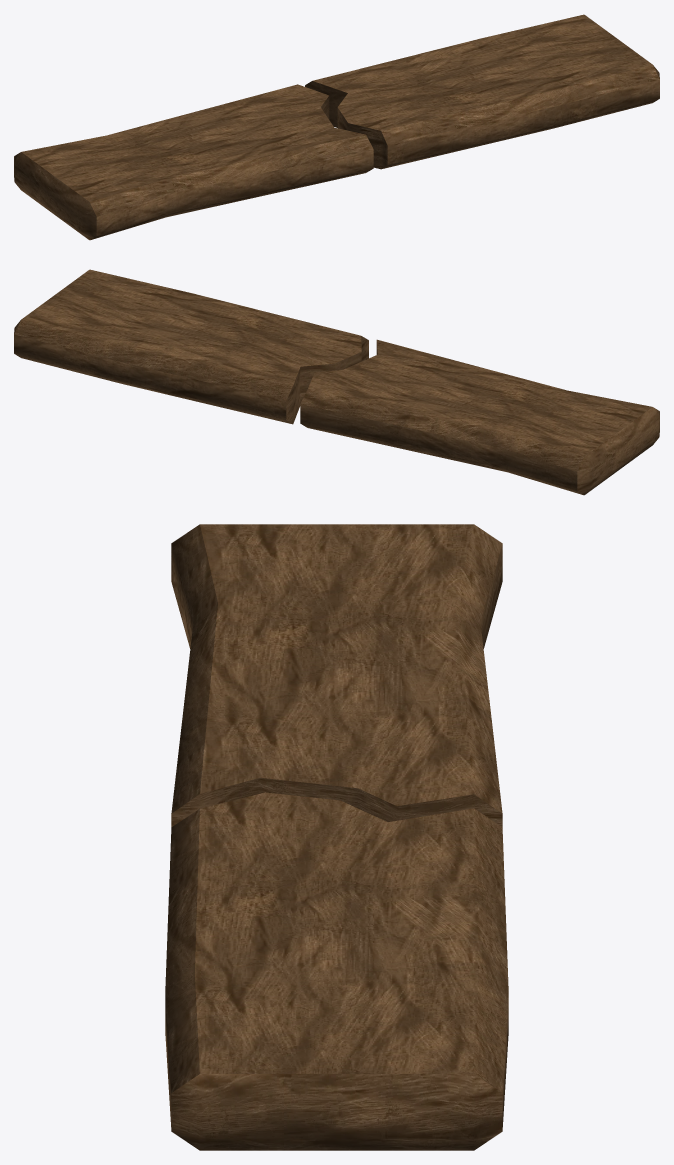
Rendered from pm-wooden-plank-03.glb.
3 views of the same model, one above another, from view 1: azimuth 30°, elevation 25°; view 2: azimuth 150°, elevation 25°; view 3: azimuth 270°, elevation 25° (orthographic). The views are drawn at different scales.
Parts seen in each view (by area): view 1: WoodenPlank03; view 2: WoodenPlank03; view 3: WoodenPlank03.
Boxes of the visible parts, left/top/right/bottom form: WoodenPlank03: left=14, top=14, right=659, bottom=240; WoodenPlank03: left=14, top=269, right=659, bottom=495; WoodenPlank03: left=165, top=524, right=508, bottom=1150.
Size of the model in its own units: 2.99 by 0.1903 by 0.7706.
1 material, 1 textured.
